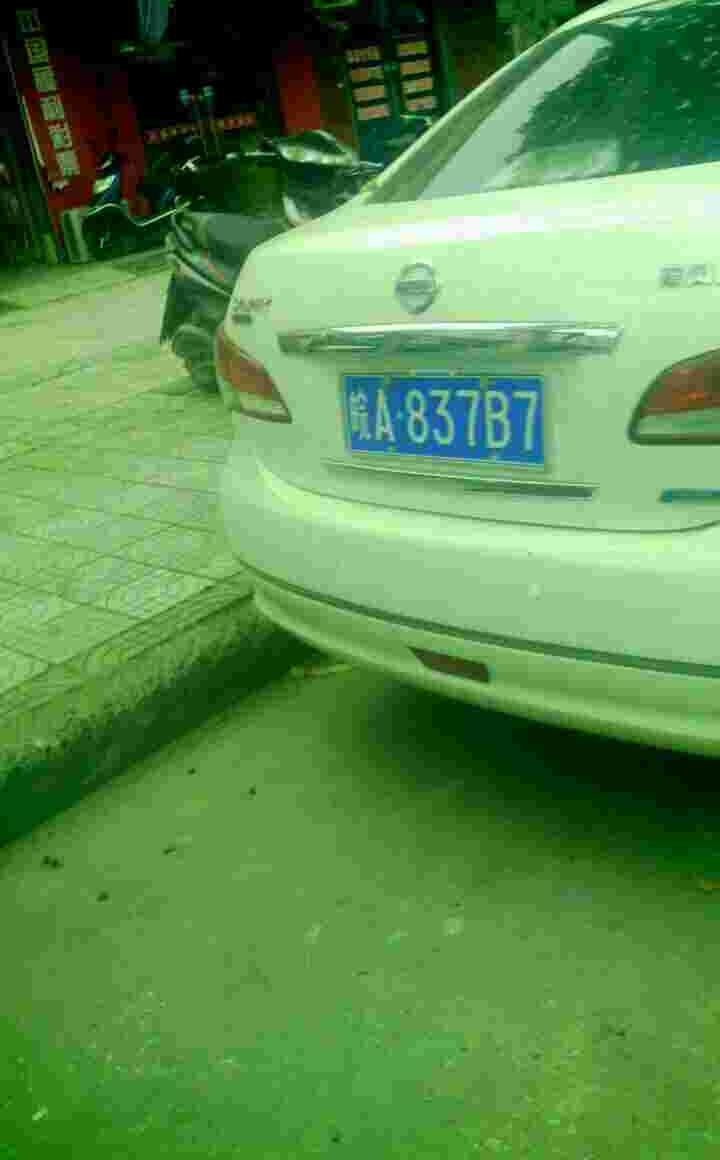license_plate: (349, 382, 539, 466)
